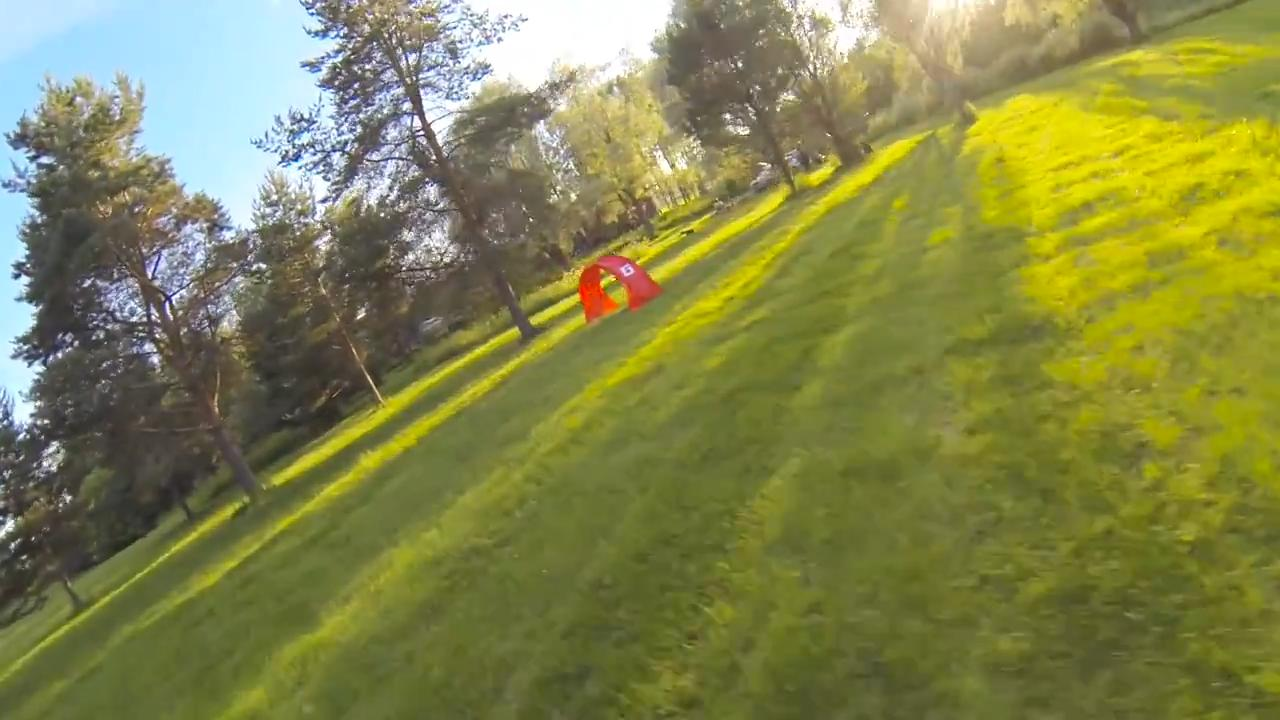gate: (572, 253, 664, 326)
